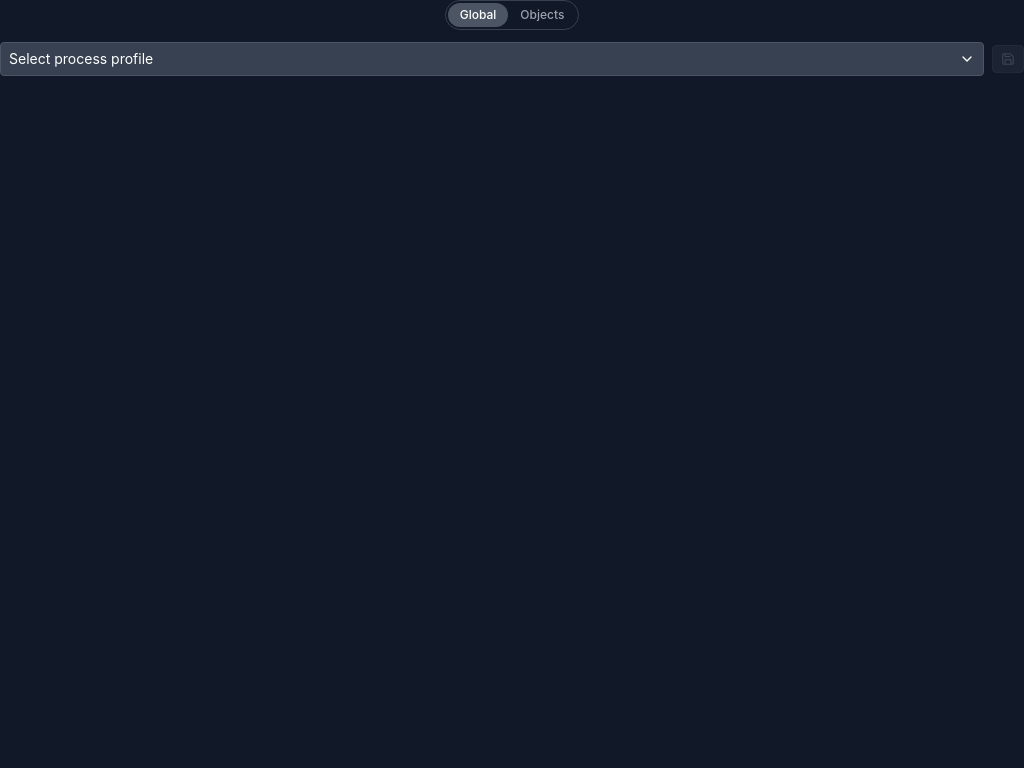
Test: ProcessSelector › opens the picker modal listing system process profiles when manufacturer selected
This screenshot has width=1024, height=768.
Click the button labelled "Select process profile": {"x": 81, "y": 58} [0, 42, 984, 76]
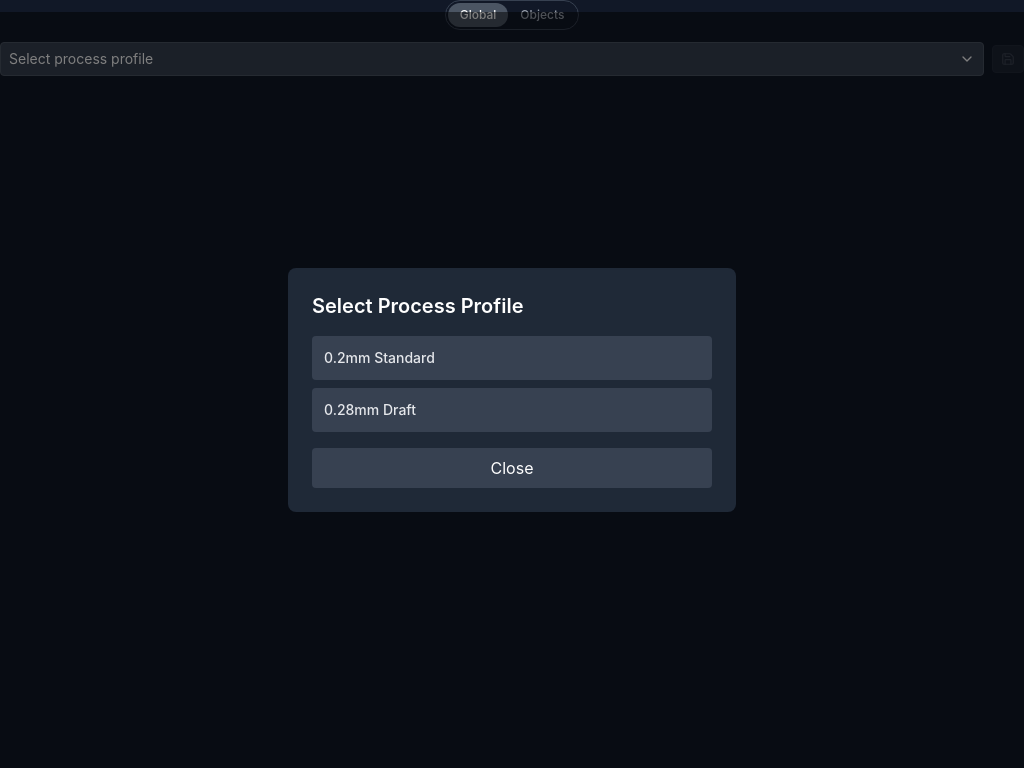
Check: the heading "Select Process Profile" is shown, box [312, 294, 524, 318]
Check: the text "0.2mm Standard" is shown, box [324, 348, 435, 368]
Check: the text "0.28mm Draft" is shown, box [324, 400, 416, 420]
